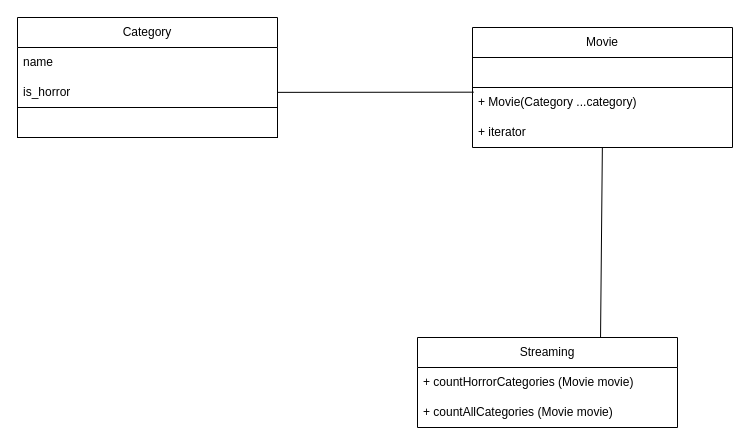
Some shapes in this 750 by 445 pixel diagram are drawn without their labels. Each missing label, with the centre of its shape:
"- categories: List<Category>" goes at (602,72).
"Category(String name, boolean is_horror)" goes at (147,122).
